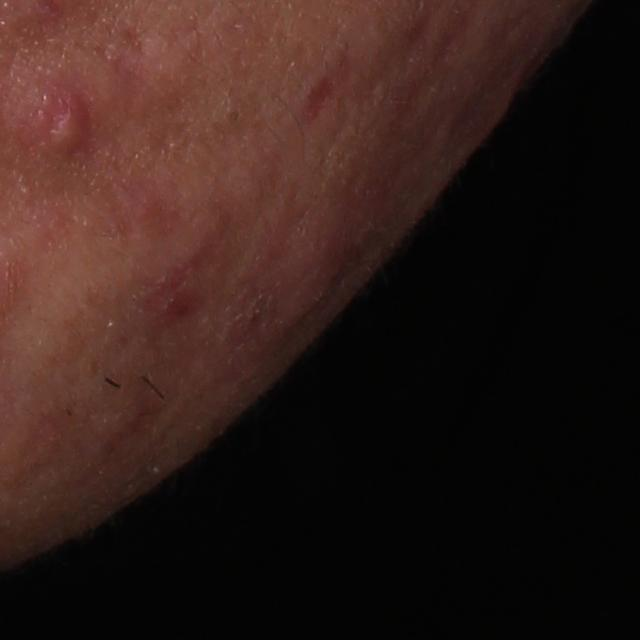atrophic_scar: (306, 72, 334, 120)
comedo: (221, 103, 248, 128)
